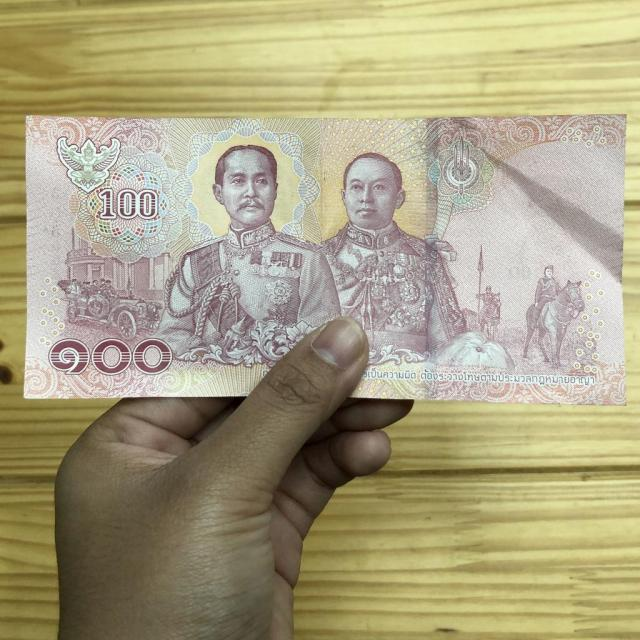THAI100: (21, 112, 626, 411)
